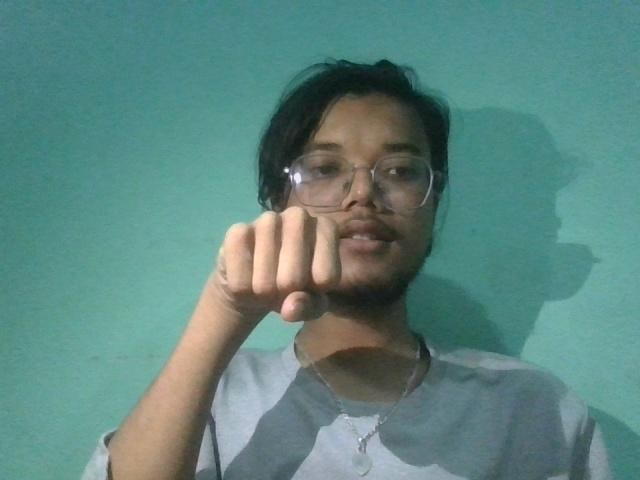Yes: (192, 195, 351, 346)
